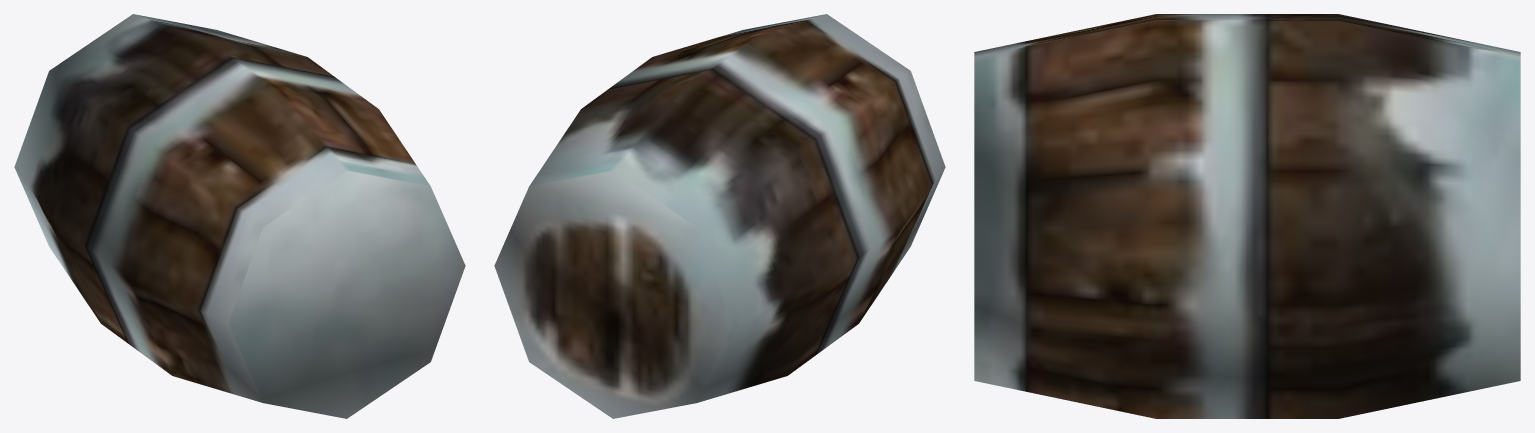
The picture shows the model from 3 angles, left to right: view 1: azimuth 30°, elevation 25°; view 2: azimuth 150°, elevation 25°; view 3: azimuth 270°, elevation 25°; orthographic projection. The views are drawn at different scales.
Parts seen in each view (by area): view 1: model_Object01; view 2: model_Object01; view 3: model_Object01.
Boxes of the visible parts, <box> form: model_Object01: <box>14,14,465,418</box>; model_Object01: <box>494,14,945,418</box>; model_Object01: <box>974,14,1520,418</box>.
Bounding box in the file's own units: 0.8127 × 0.8127 × 1.03.
Materials: 1 (1 with a texture image).
